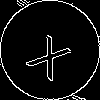X: (25, 25, 79, 82)
